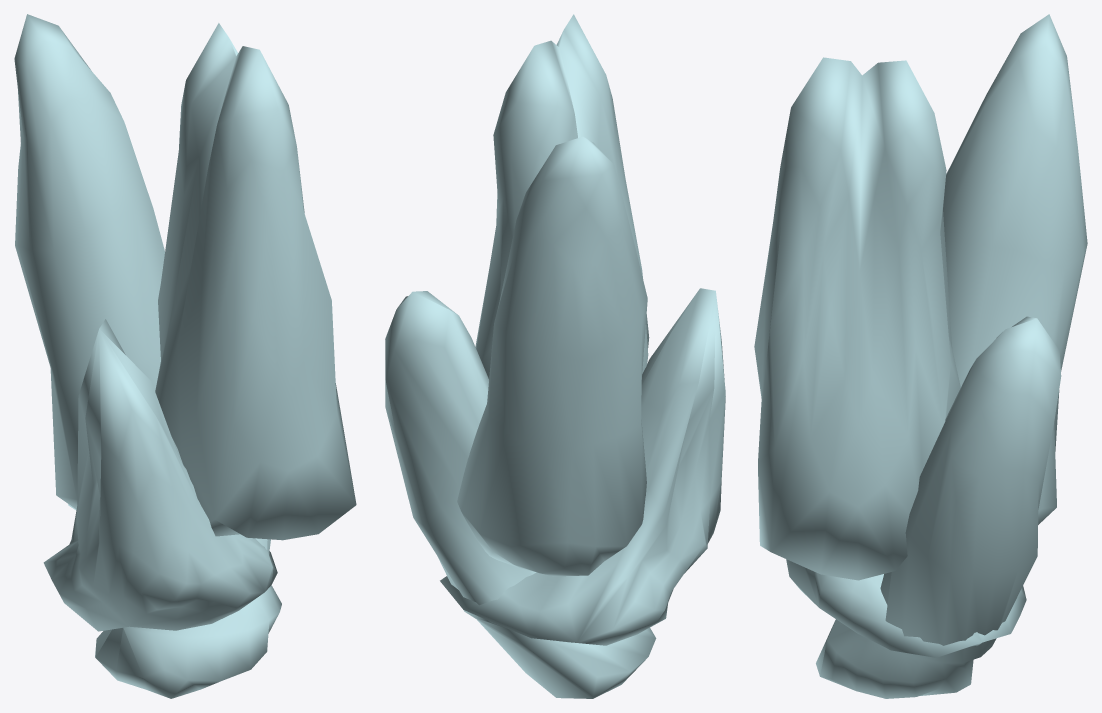
Rendered from blender env assets large ice spike 1.fbx.
The picture shows the model from 3 angles, left to right: view 1: azimuth 30°, elevation 25°; view 2: azimuth 150°, elevation 25°; view 3: azimuth 270°, elevation 25°; orthographic projection. The views are drawn at different scales.
Visible parts, largest first — view 1: rock; view 2: rock; view 3: rock.
Boxes of the visible parts, left/top/right/bottom form: rock: left=14, top=14, right=356, bottom=698; rock: left=385, top=14, right=725, bottom=698; rock: left=754, top=14, right=1087, bottom=698.
Size of the model in its own units: 128 by 297 by 137.
